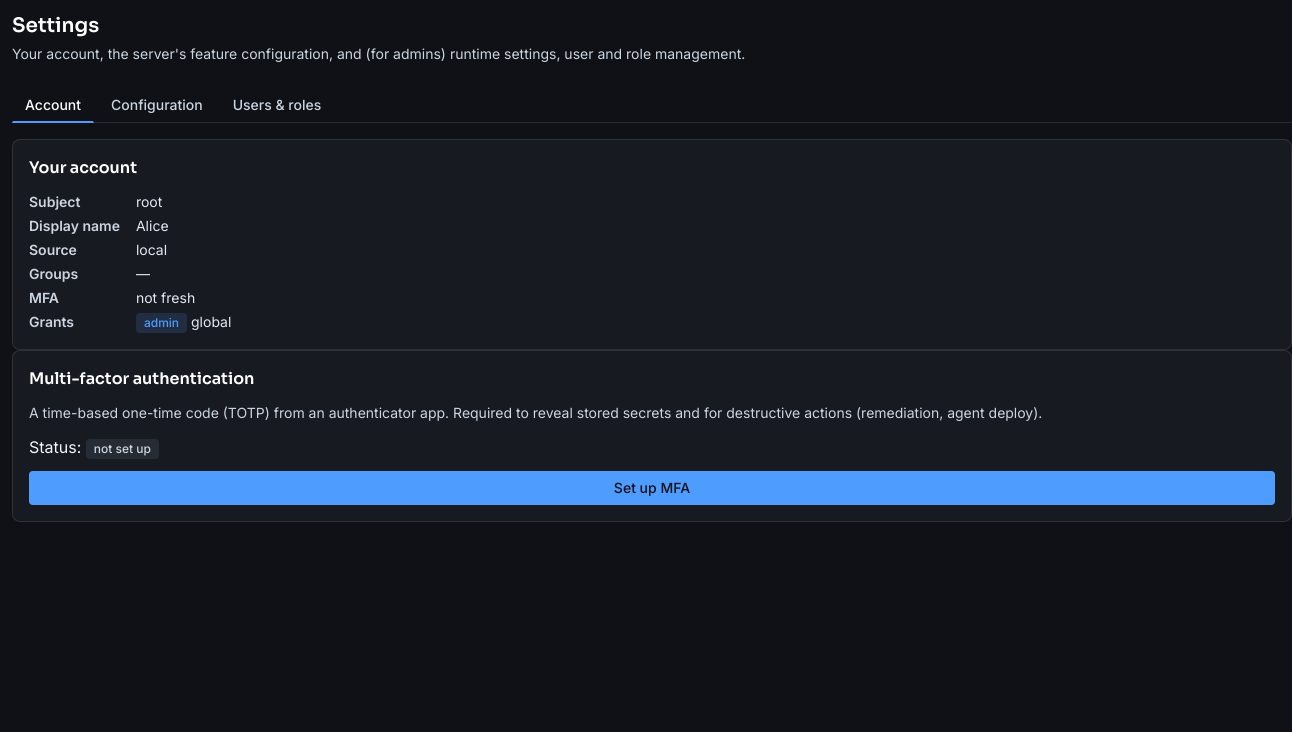
Test case: Settings page › shows 'No role assignments.' when an expanded user has no grants
Click the tab "Users & roles".
click(277, 106)  # box [220,88,334,123]
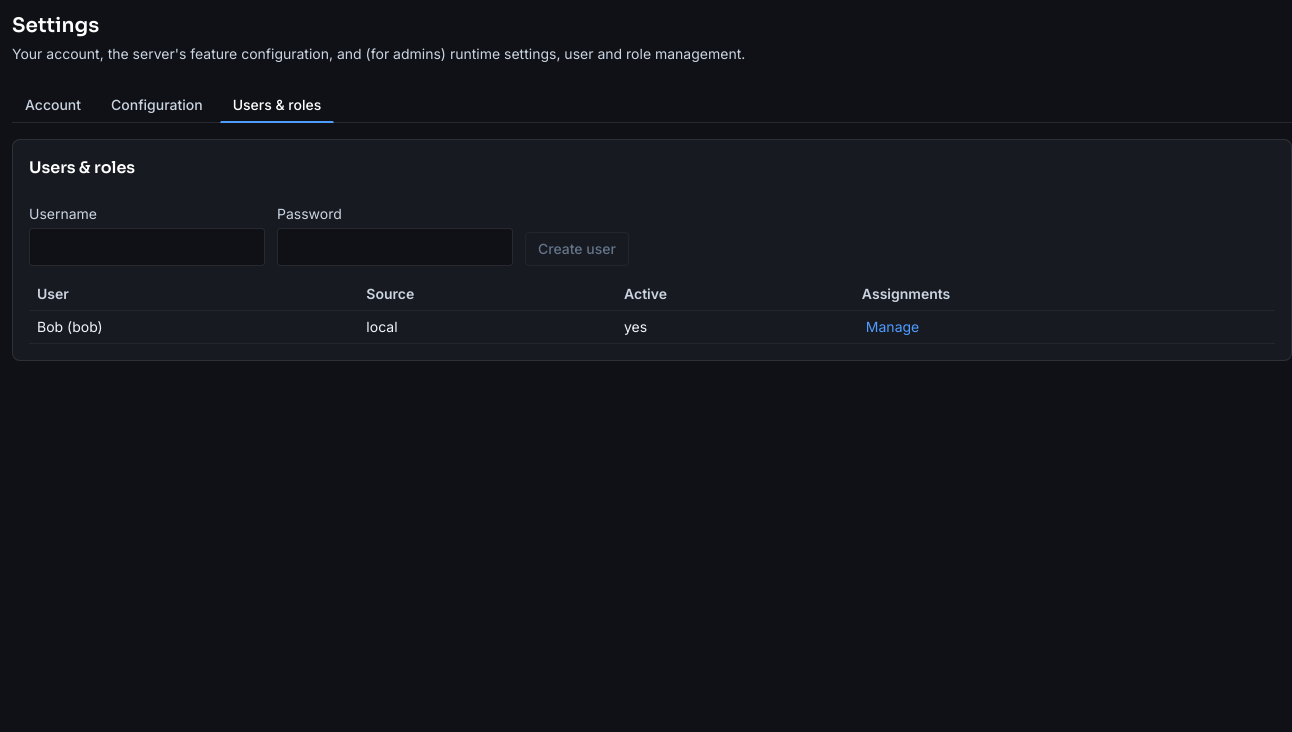
Click the button "Manage".
click(893, 327)  # box [862,317,923,337]
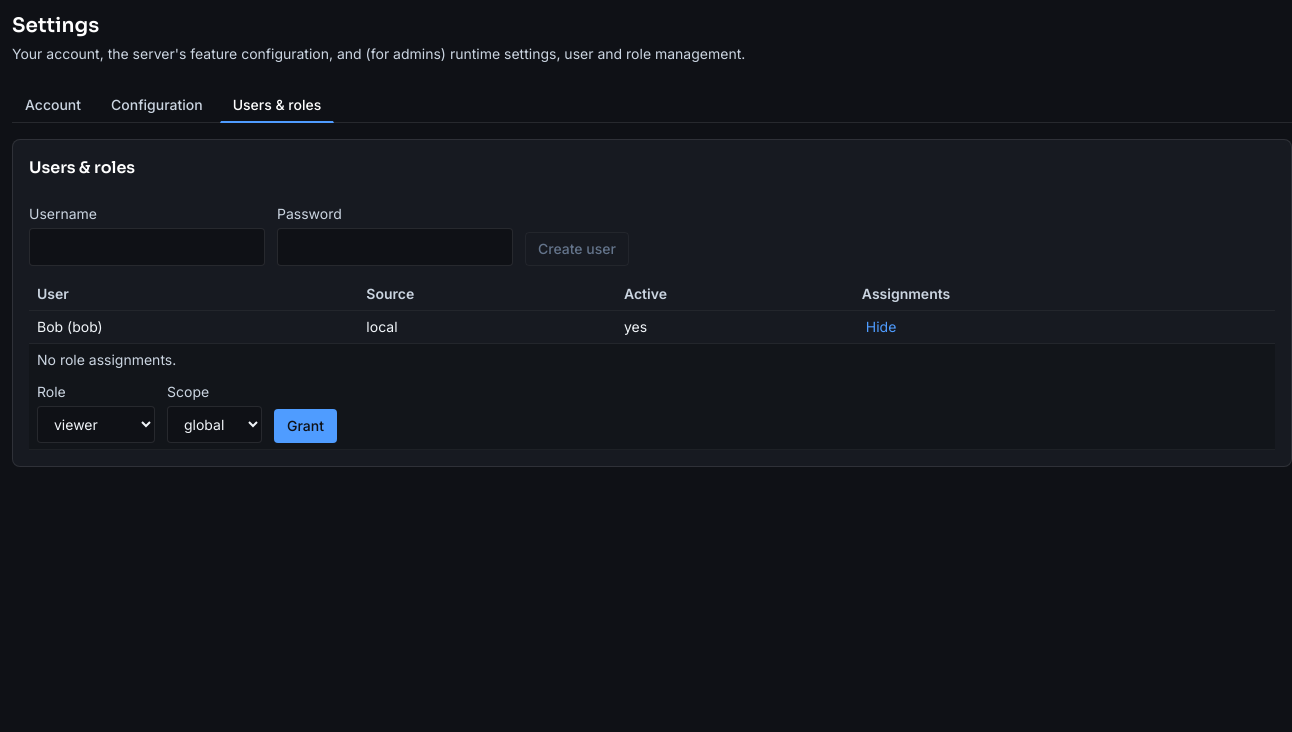
Now the text "No role assignments." is shown, box [37,351,176,368]
